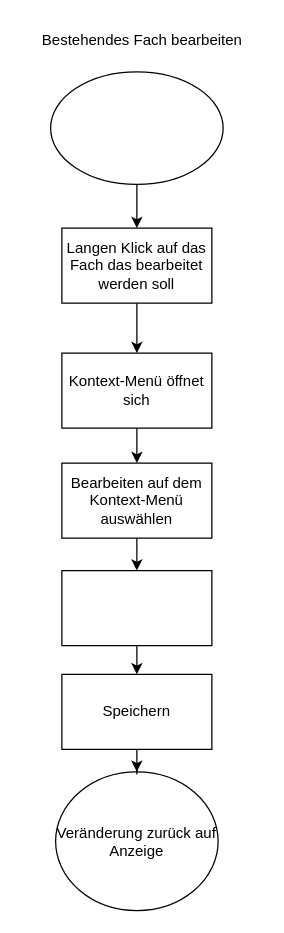
The diagram is 284 pixels wide and 933 high, and some of its shapes have lost their labels. The centre of each missing label's shape, as x and y in pixels:
"Klick auf den Lernen- Button auf der Navbar" belongs at (136,127).
"Veränderung von Anzeige zu Eingabefeld wechseln" belongs at (136,607).
